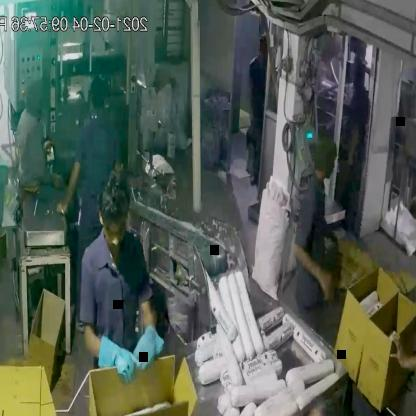glove: (88, 319, 140, 401), (134, 303, 170, 381)
no_glove: (288, 240, 342, 310), (46, 146, 82, 222), (377, 332, 416, 386), (406, 296, 416, 356)
